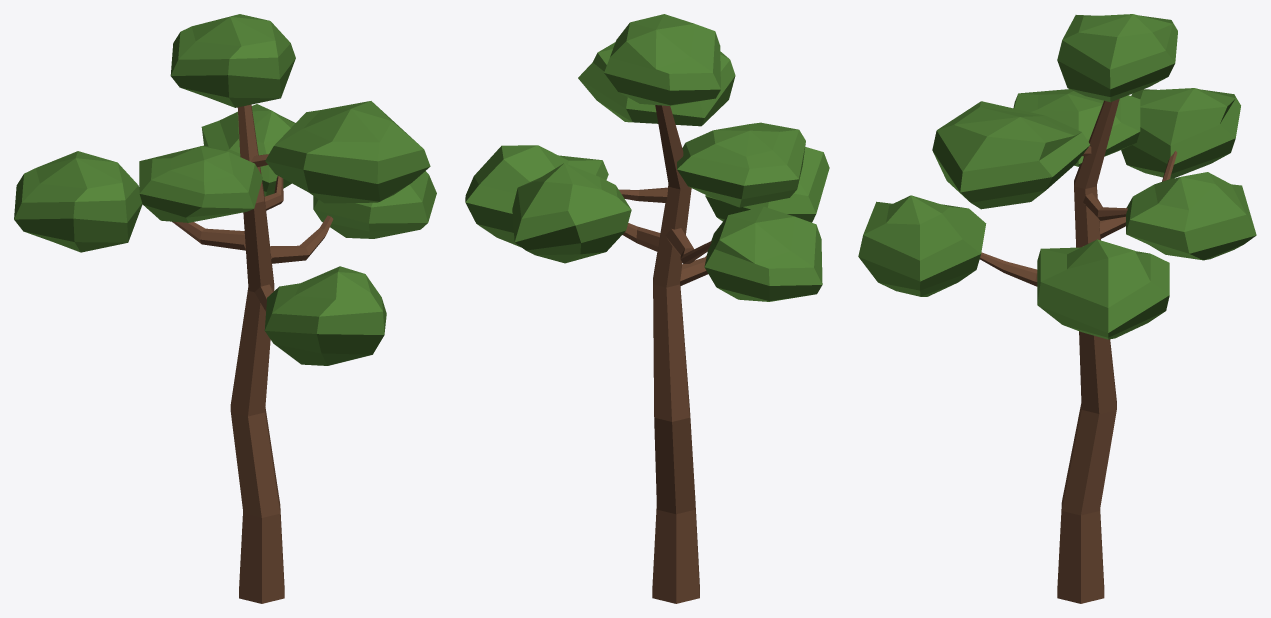
File: Tree_LP.fbx
The picture shows the model from 3 angles, left to right: view 1: azimuth 30°, elevation 25°; view 2: azimuth 150°, elevation 25°; view 3: azimuth 270°, elevation 25°; orthographic projection. The views are drawn at different scales.
Parts seen in each view (by area): view 1: Tree_LP; view 2: Tree_LP; view 3: Tree_LP.
Part boxes in pixels (bbox=[...]): Tree_LP: bbox=[14, 14, 436, 603]; Tree_LP: bbox=[465, 14, 829, 603]; Tree_LP: bbox=[858, 14, 1256, 603].
Bounding box in the file's own units: 178 × 249 × 156.
